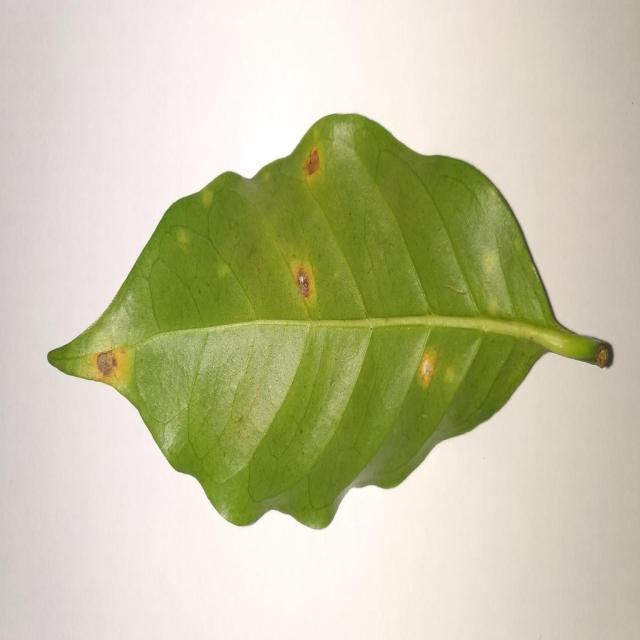Enfermedad-Roya: (46, 114, 615, 532)
